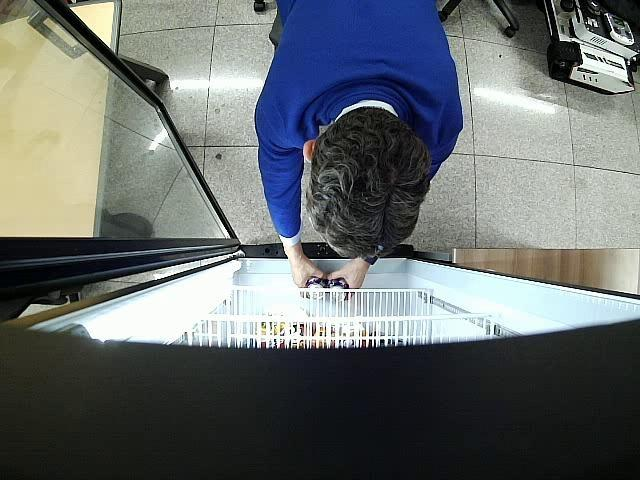14_welchsGrape: (306, 276, 326, 300), (328, 280, 350, 300)
